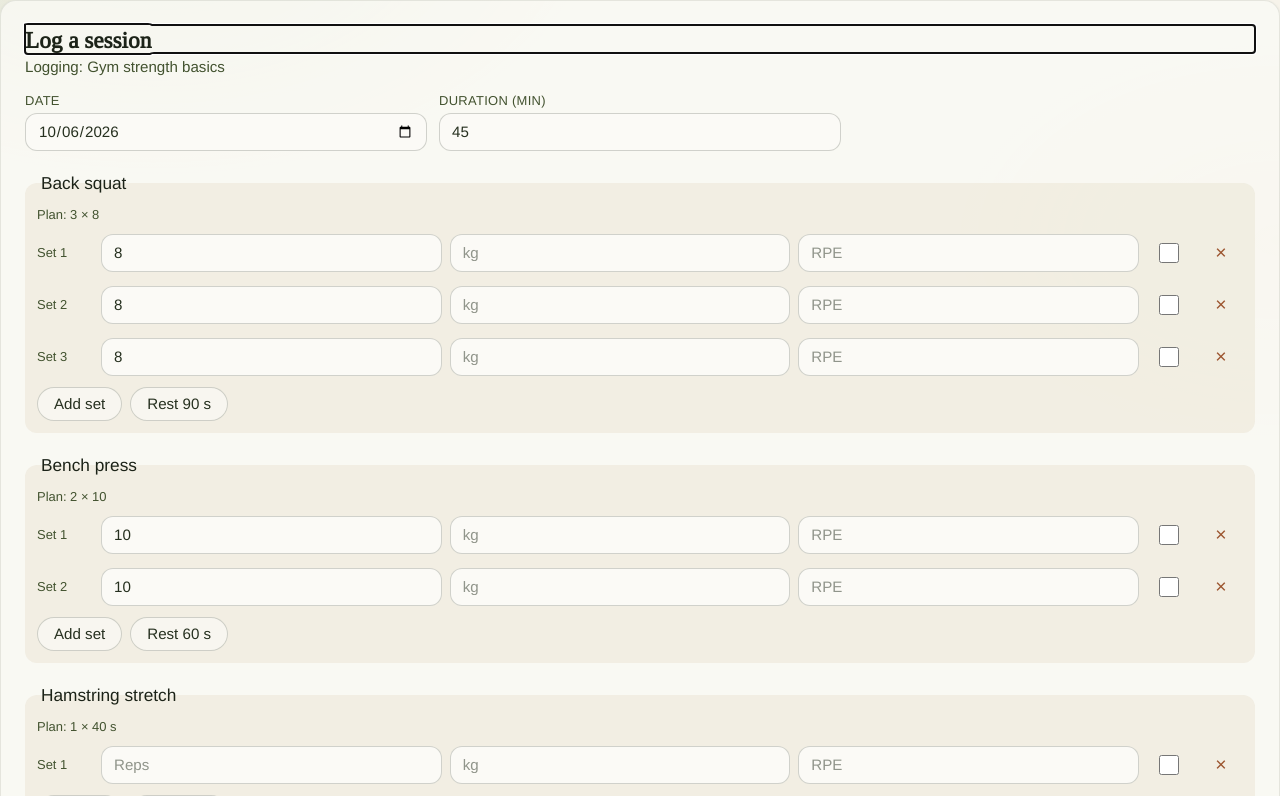
<SessionLogger> › adds a set copying the last one and removes a set
Type "70" into the field with placeholder "kg" in the row of "Set 3" at [620, 357], box [450,338,790,376]
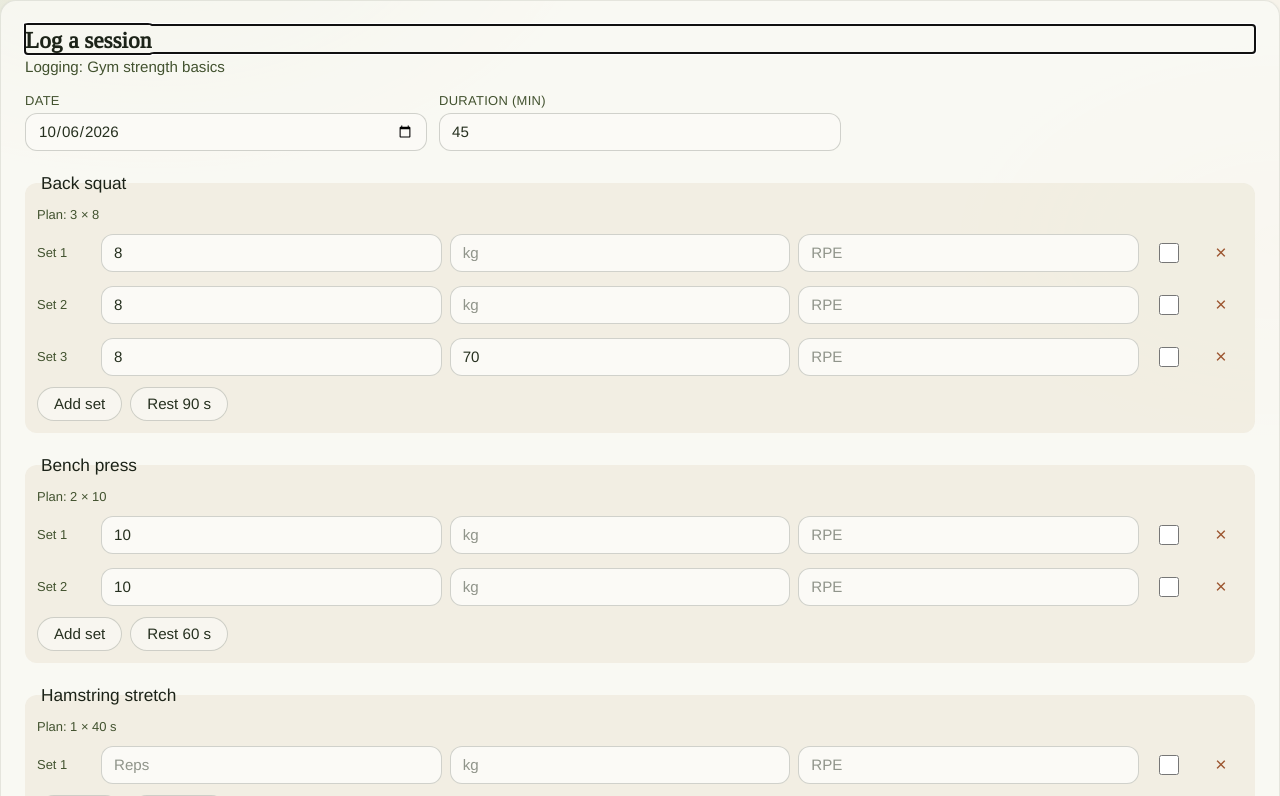
Click the button "Add set" below "Set 3" at [80, 404], box [37,387,122,421]
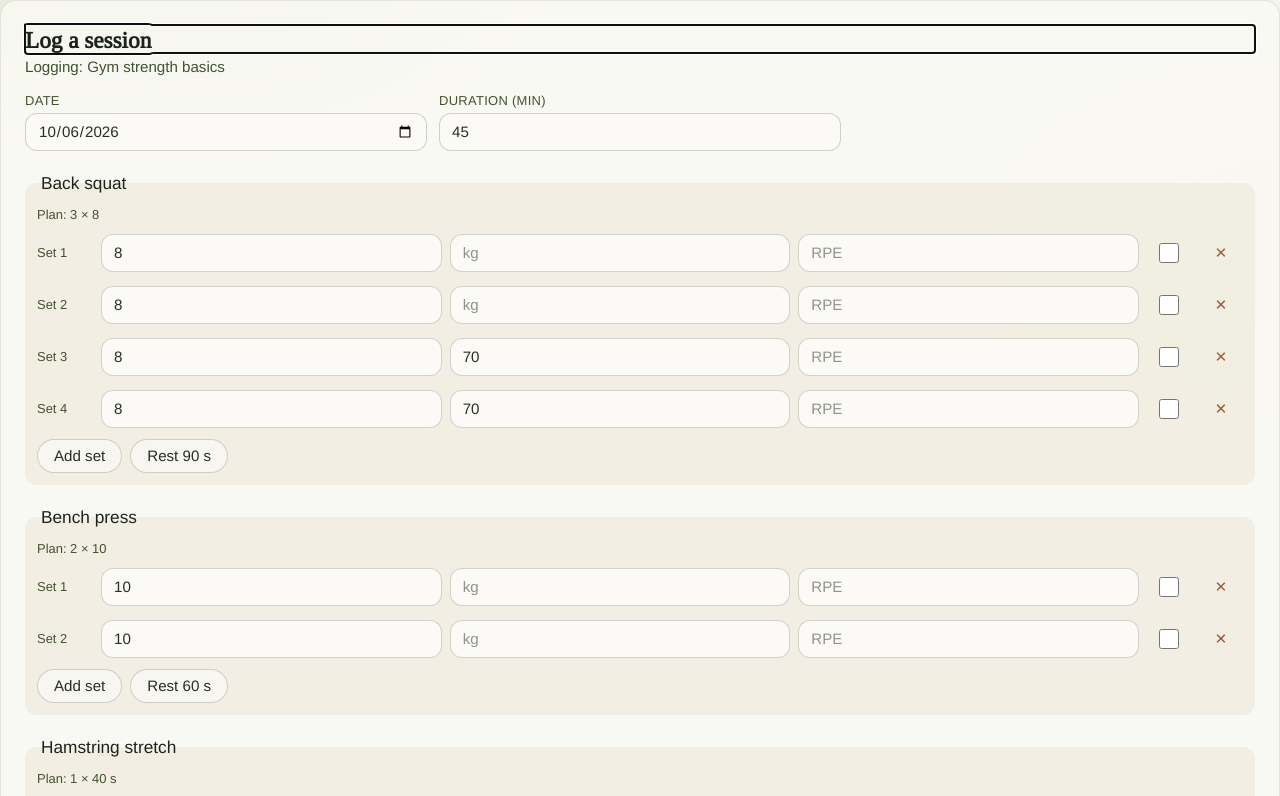
Expected: the number of fields named "Reps" is 4, [101,234,442,272]; [101,286,442,324]; [101,338,442,376]; [101,390,442,428]
Click the 1st button "×" at [1221, 253], box [1199,231,1243,275]
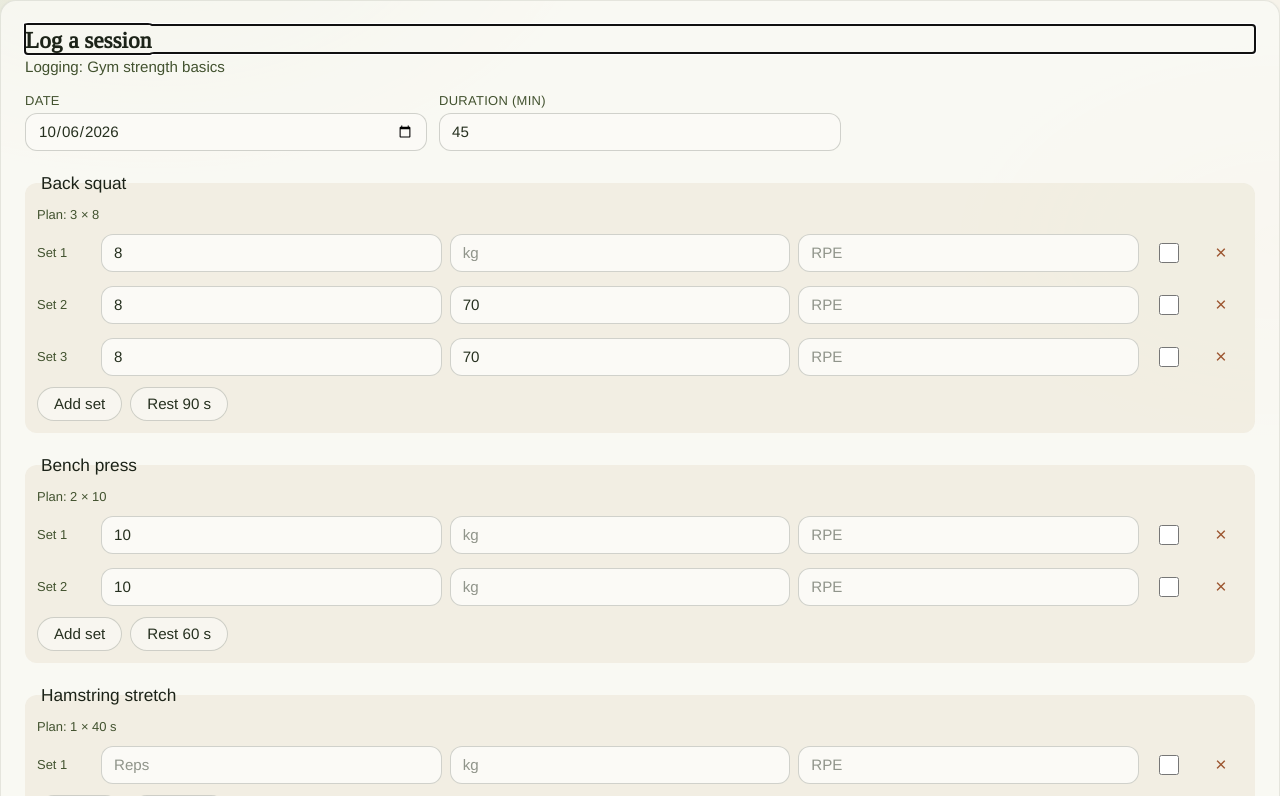
Expected: the number of fields named "Reps" is 3, [101,234,442,272]; [101,286,442,324]; [101,338,442,376]
